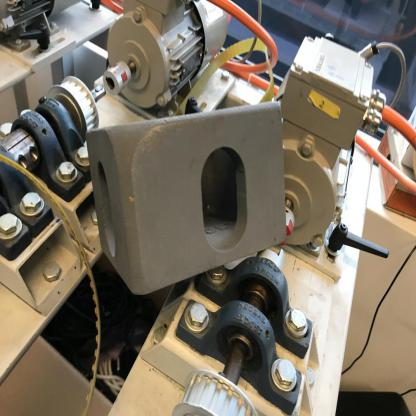CornerCasting: (82, 102, 290, 297)
